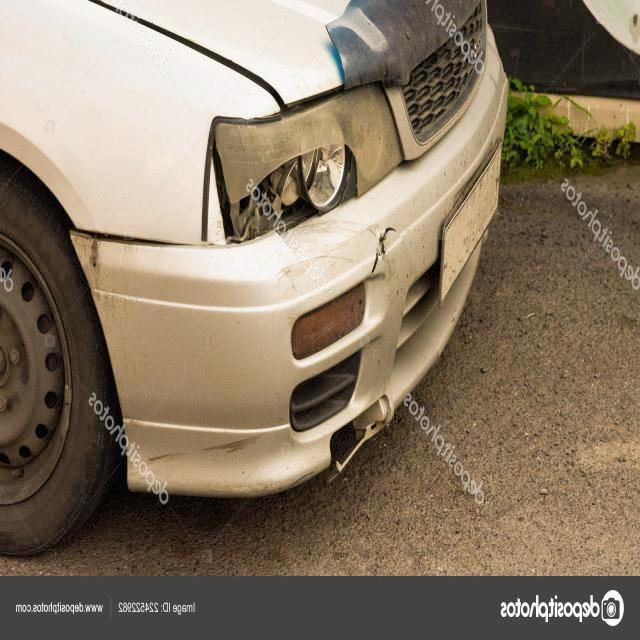minor: (326, 224, 398, 284)
moderate: (210, 90, 387, 248)
